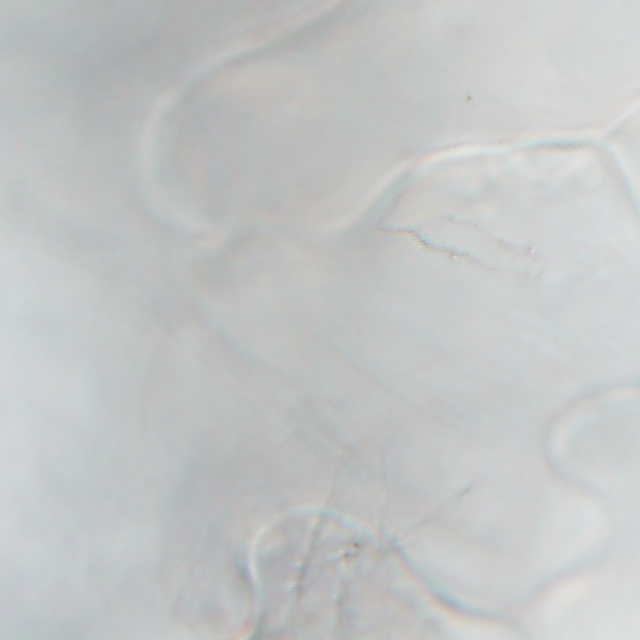center: (409, 210, 547, 277), (281, 564, 340, 584)
stomata-huw1: (360, 145, 637, 332), (248, 510, 373, 639)
